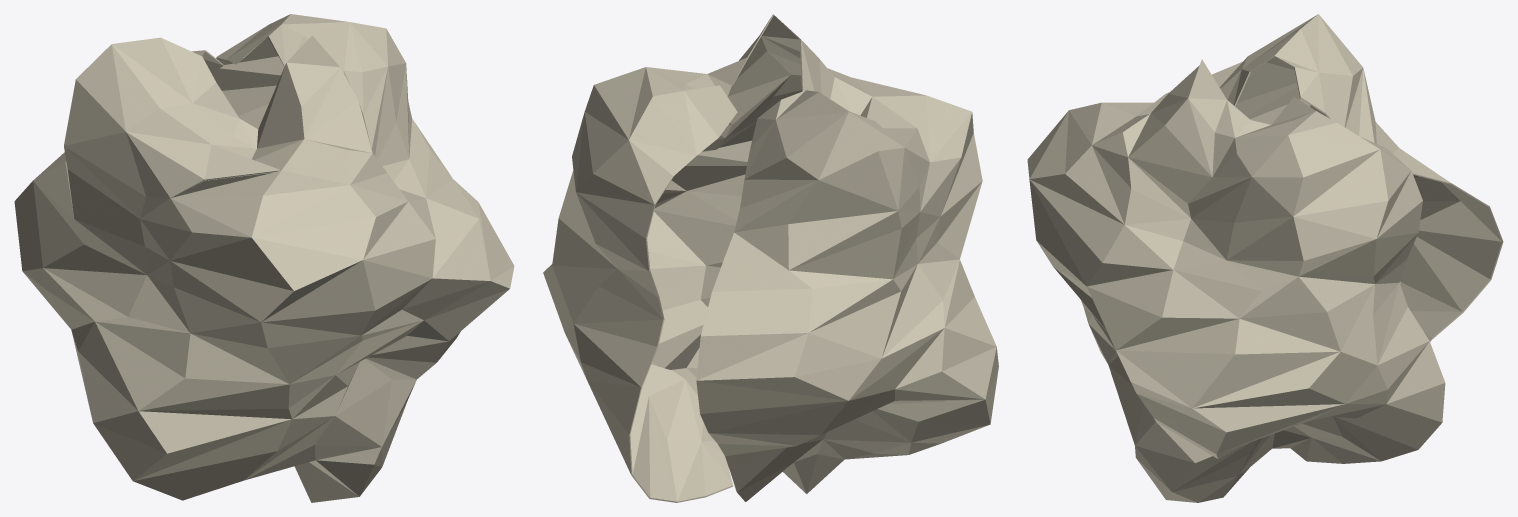
The model's file is D01_PaperBall1.fbx.
3 renders of one model, left to right at view 1: azimuth 30°, elevation 25°; view 2: azimuth 150°, elevation 25°; view 3: azimuth 270°, elevation 25°, orthographic. The views are drawn at different scales.
Parts seen in each view (by area): view 1: Body_Mesh; view 2: Body_Mesh; view 3: Body_Mesh.
Part boxes in pixels (x1,y1,x2,y2): Body_Mesh: [14, 14, 514, 502]; Body_Mesh: [543, 14, 998, 502]; Body_Mesh: [1027, 14, 1503, 502].
Bounding box in the file's own units: 0.074 × 0.0798 × 0.0782.
